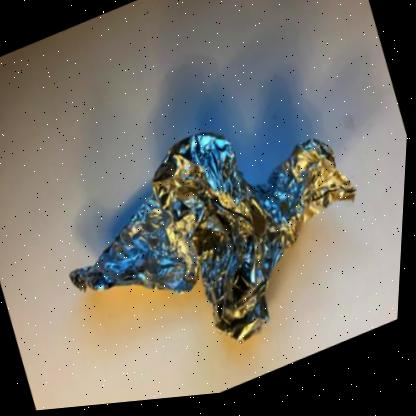Metal: (72, 137, 357, 346)
